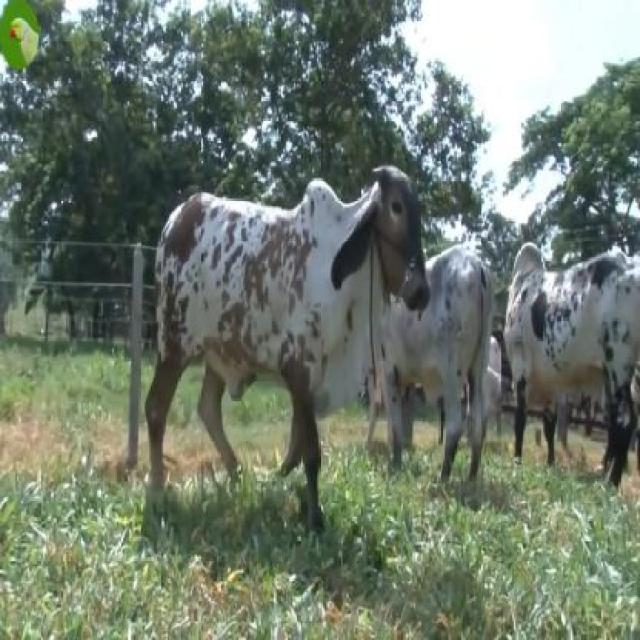Cow: (145, 163, 429, 512), (502, 243, 638, 502)
